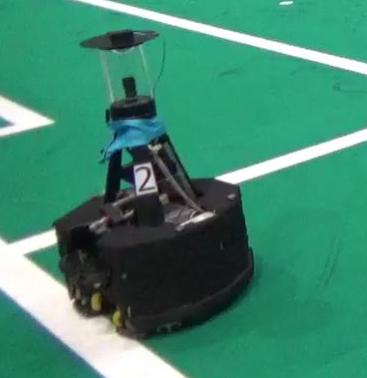robot: (45, 22, 259, 343)
